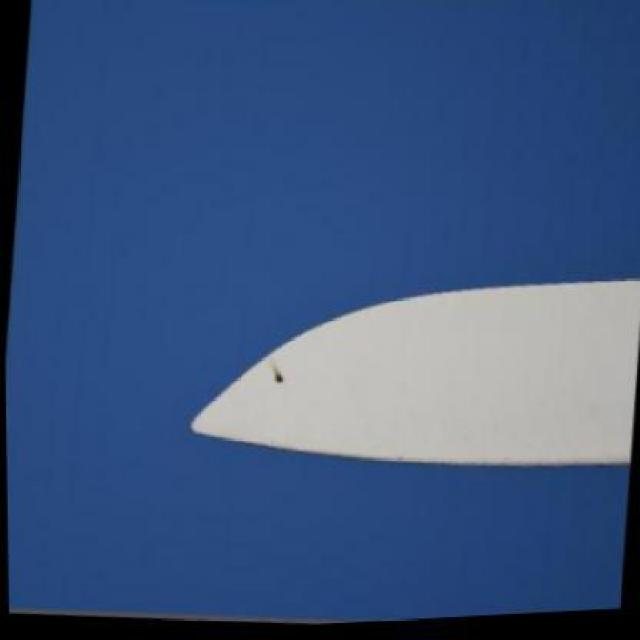Burn Mark: (267, 366, 282, 388)
